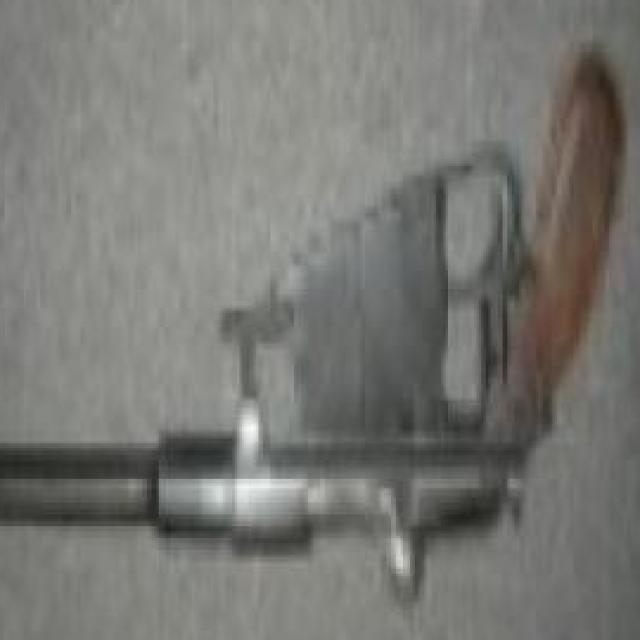pistol: (0, 57, 640, 614)
